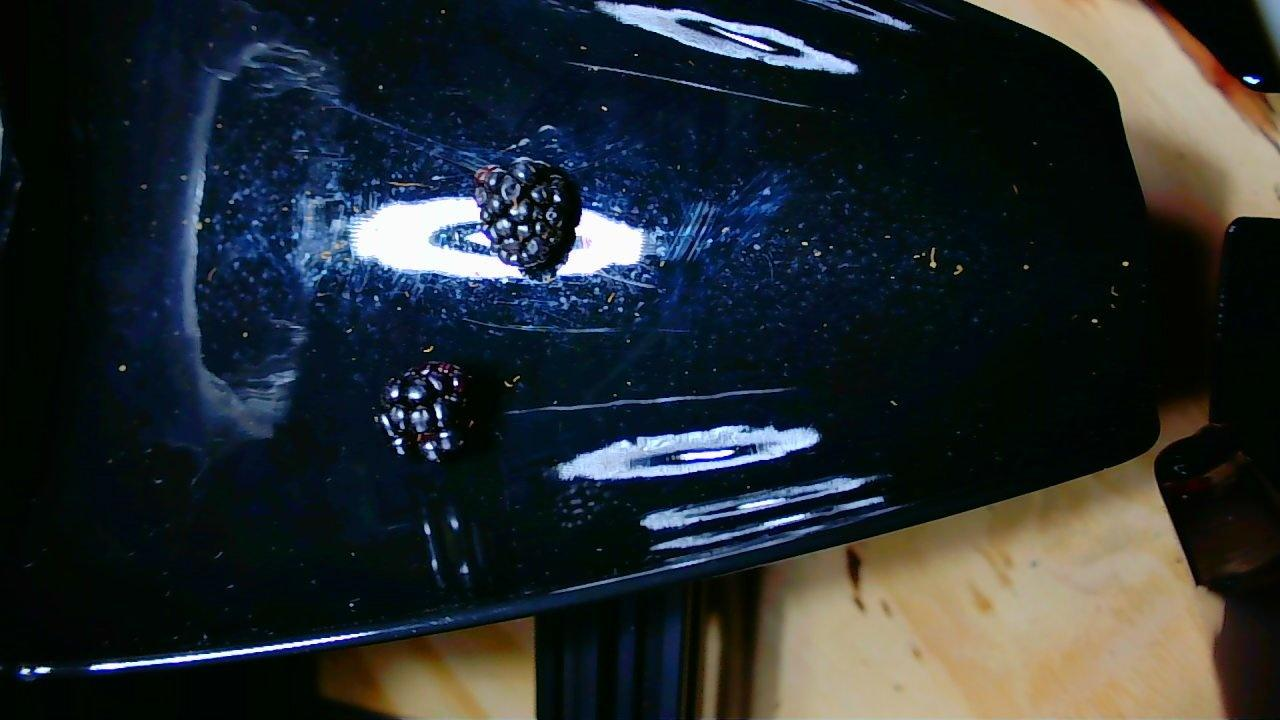berry: (473, 157, 580, 273), (376, 361, 468, 461)
